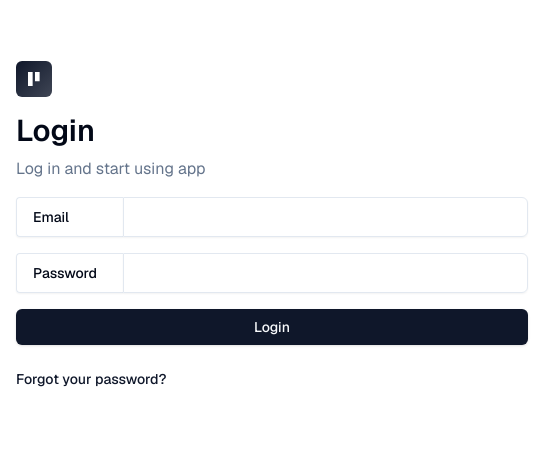
Test: Form validation › Must display errors when inputs are empty
This screenshot has width=546, height=459.
What coordinates should you click on to do the following:
click the submit button
I would click on:
 (272, 327)
Its box is x1=16 y1=309 x2=528 y2=345.
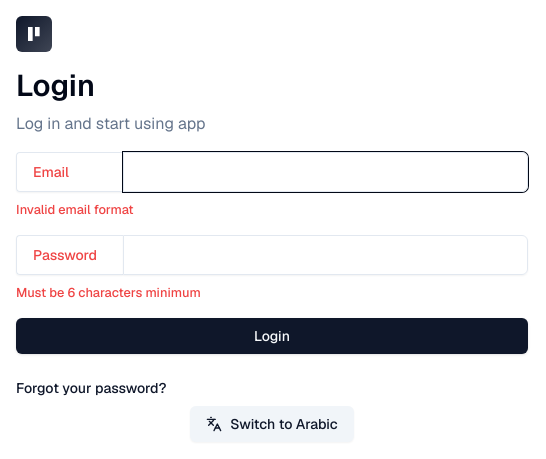
Check: the text "Invalid email format" is shown, box x1=16 y1=201 x2=134 y2=218
Check: the text "Must be 6 characters minimum" is shown, box x1=16 y1=284 x2=201 y2=301
